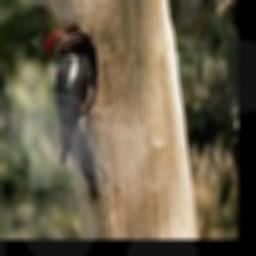Woodpecker: (45, 30, 99, 201)
